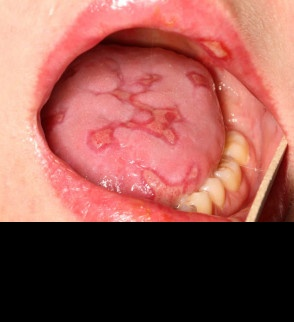SJS-TEN: (14, 0, 294, 223)
